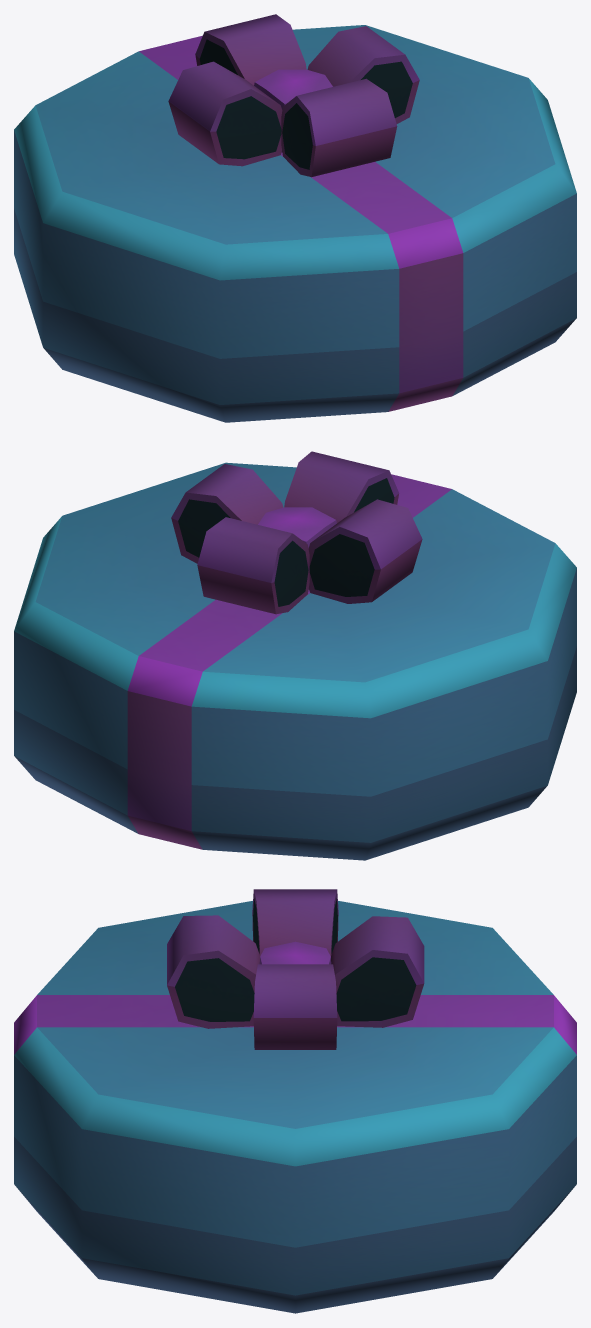
Rendered from presi_round_1_blue.fbx.
3 renders of one model, top to bottom at view 1: azimuth 30°, elevation 25°; view 2: azimuth 150°, elevation 25°; view 3: azimuth 270°, elevation 25°, orthographic. The views are drawn at different scales.
Visible parts, largest first — view 1: presi_round_1_blue; view 2: presi_round_1_blue; view 3: presi_round_1_blue.
Part boxes in pixels (x1=…): presi_round_1_blue: x1=14, y1=14, x2=576, y2=422; presi_round_1_blue: x1=14, y1=451, x2=576, y2=860; presi_round_1_blue: x1=14, y1=889, x2=576, y2=1313.
Size of the model in its own units: 162 by 77.63 by 151.
Materials: 1 (1 with a texture image).
